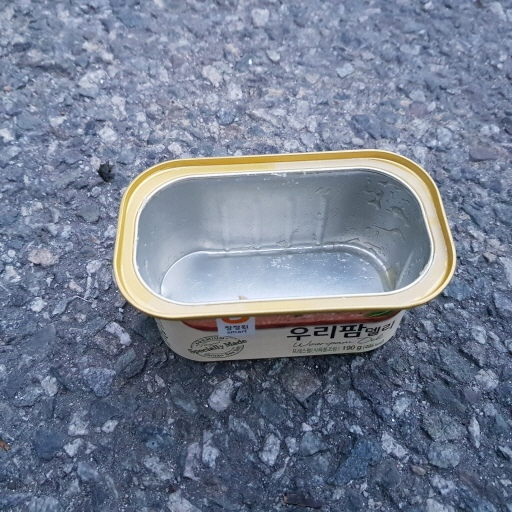Metal_2: (112, 152, 459, 366)
